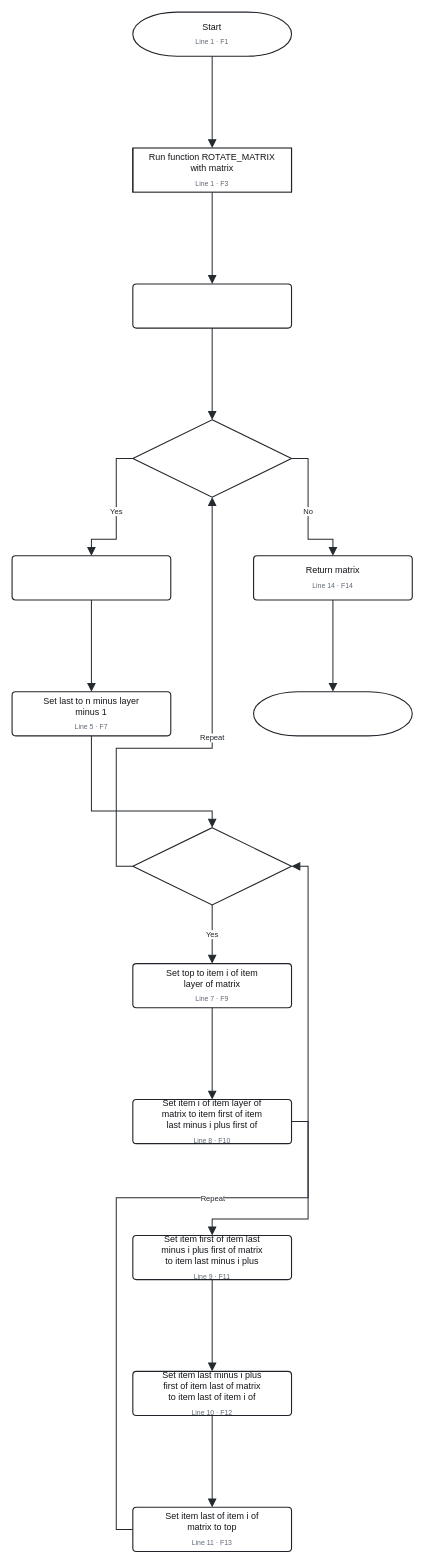
Some shapes in this 425 by 1564 pixel diagram are drawn without their labels. Each missing label, with the box of its shape:
End Line 1 · F2: (253, 691, 412, 736)
For i from first to last plus 1 Line 6 · F8: (132, 827, 292, 905)
For layer from 0 to n divided by 2 plus 1 Line 3 · F5: (132, 419, 292, 497)
Set first to layer Line 4 · F6: (11, 555, 171, 600)
Set n to the length of matrix Line 2 · F4: (132, 283, 292, 328)
